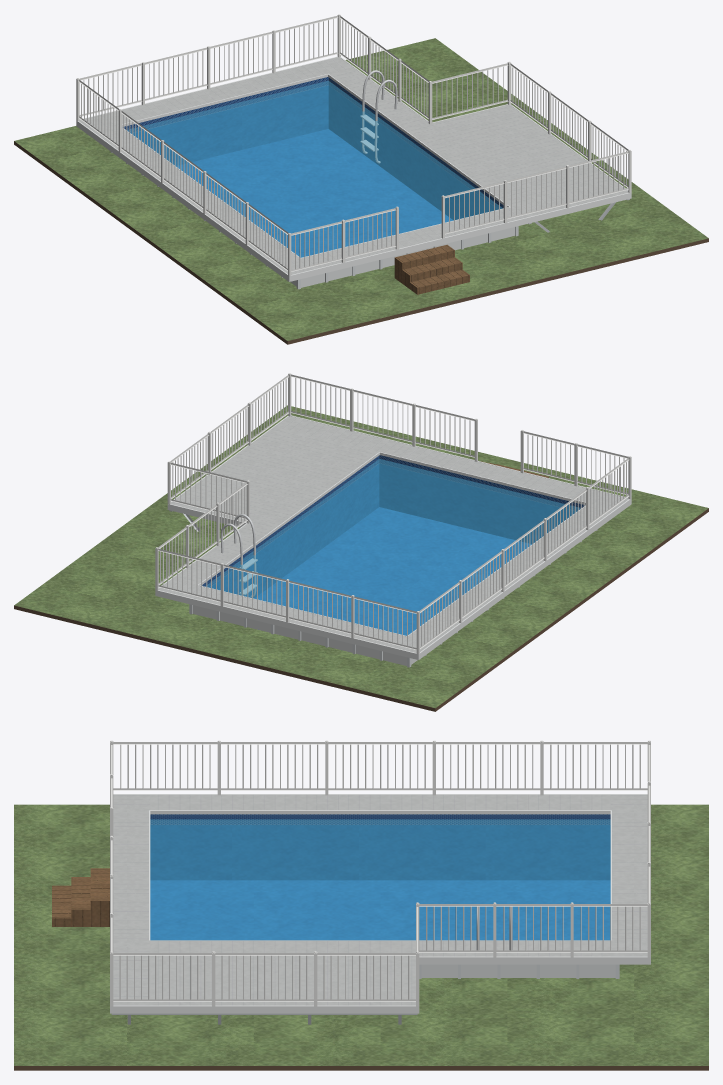
Rendered from kayak-pool-16x24-white-l-rec-fence.0f0435ccb8.glb.
3 views of the same model, one above another, from view 1: azimuth 30°, elevation 25°; view 2: azimuth 150°, elevation 25°; view 3: azimuth 270°, elevation 25° (orthographic). The views are drawn at different scales.
Visible parts, largest first — view 1: ground, water, deck, fence, liner_floor, liner_wall, fascia, soil, steps, wall, steel; view 2: ground, water, deck, fence, liner_floor, liner_wall, fascia, soil, wall, steel; view 3: ground, water, deck, liner_wall, liner_floor, fence, fascia, soil, steps, wall, stud.
Part boxes in pixels (box(x1,y1,x2,y2)): ground: box(14, 38, 708, 340); water: box(127, 80, 502, 257); deck: box(79, 57, 628, 274); fence: box(76, 14, 631, 275); liner_floor: box(176, 129, 453, 257); liner_wall: box(122, 77, 503, 220); fascia: box(76, 56, 631, 281); soil: box(14, 141, 708, 344); steps: box(394, 244, 469, 294); wall: box(290, 227, 515, 287); steel: box(360, 70, 397, 163); ground: box(14, 405, 708, 708); water: box(205, 459, 580, 635); deck: box(158, 416, 628, 652); fence: box(155, 373, 631, 654); liner_floor: box(254, 507, 531, 635); liner_wall: box(202, 455, 585, 598); fascia: box(155, 415, 631, 659); soil: box(14, 508, 708, 711); wall: box(192, 605, 417, 665); steel: box(220, 514, 257, 597); ground: box(14, 804, 708, 1065); water: box(150, 819, 610, 940); deck: box(113, 794, 647, 1005); liner_wall: box(150, 814, 610, 880); liner_floor: box(150, 880, 610, 940); fence: box(110, 740, 650, 1006); fascia: box(110, 794, 650, 1013); soil: box(14, 1066, 708, 1070); steps: box(52, 868, 109, 926); wall: box(421, 964, 615, 977); stud: box(111, 1013, 417, 1024).
Bounding box in the file's own units: 9.75 × 2.15 × 10.97.
13 materials, 5 textured.
